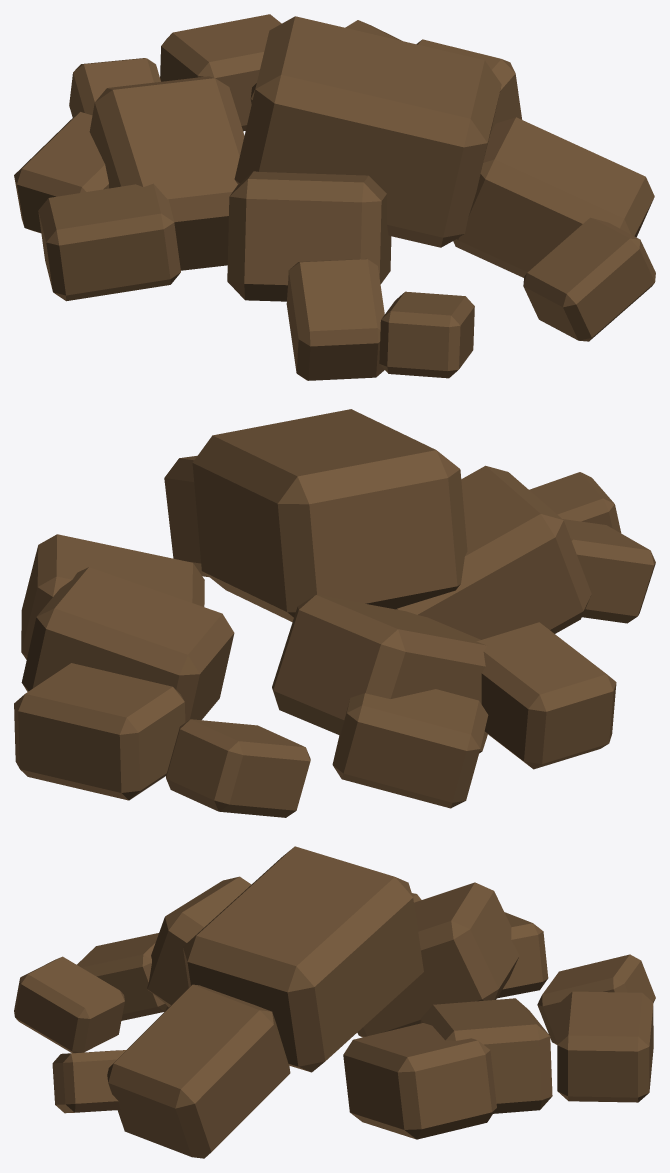
File: prop_rubble0_34bd.glb
3 views of the same model, one above another, from view 1: azimuth 30°, elevation 25°; view 2: azimuth 150°, elevation 25°; view 3: azimuth 270°, elevation 25° (orthographic). The views are drawn at different scales.
Parts seen in each view (by area): view 1: prop_rubble0_34bd; view 2: prop_rubble0_34bd; view 3: prop_rubble0_34bd.
Part boxes in pixels (x1,y1,x2,y2): prop_rubble0_34bd: [14, 14, 655, 380]; prop_rubble0_34bd: [14, 409, 655, 817]; prop_rubble0_34bd: [14, 846, 655, 1158].
Size of the model in its own units: 0.8053 by 0.3369 by 0.9978.
Materials: 1 (1 with a texture image).
